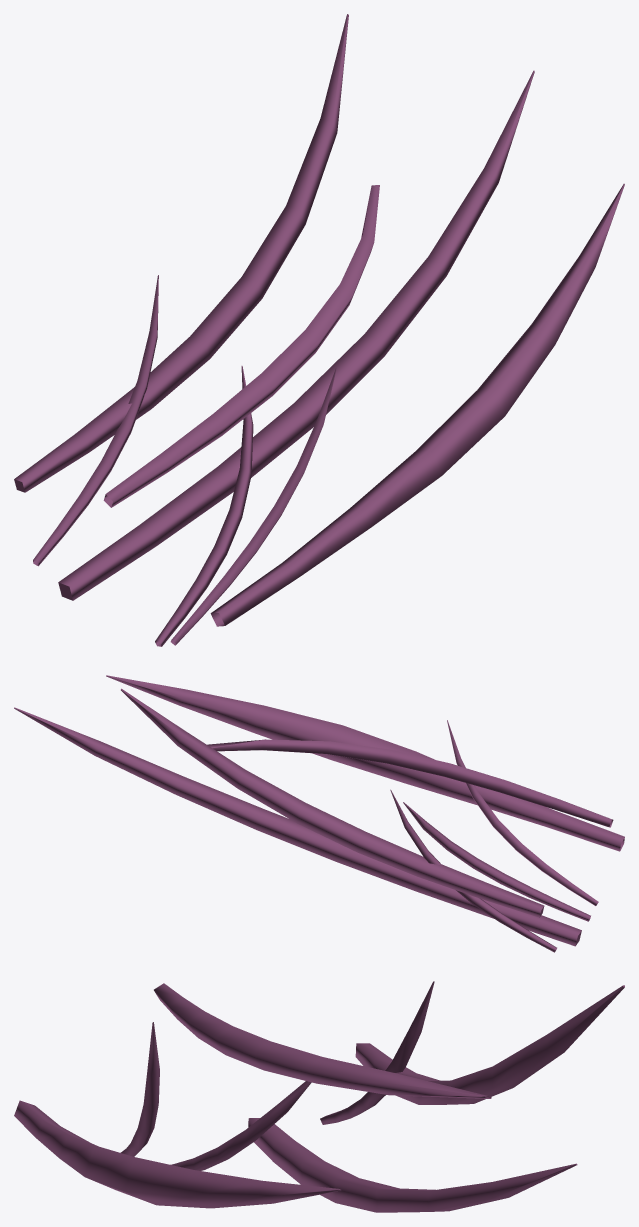
Rendered from Rotten_Bush.fbx.
3 views of the same model, one above another, from view 1: azimuth 30°, elevation 25°; view 2: azimuth 150°, elevation 25°; view 3: azimuth 270°, elevation 25° (orthographic). The views are drawn at different scales.
Parts seen in each view (by area): view 1: NURBSパス.001; view 2: NURBSパス.001; view 3: NURBSパス.001.
Part boxes in pixels (box(x1,y1,x2,y2)): NURBSパス.001: box(14, 14, 624, 646); NURBSパス.001: box(14, 675, 624, 952); NURBSパス.001: box(14, 981, 624, 1212).
Bounding box in the file's own units: 16.53 × 9.55 × 12.84.
